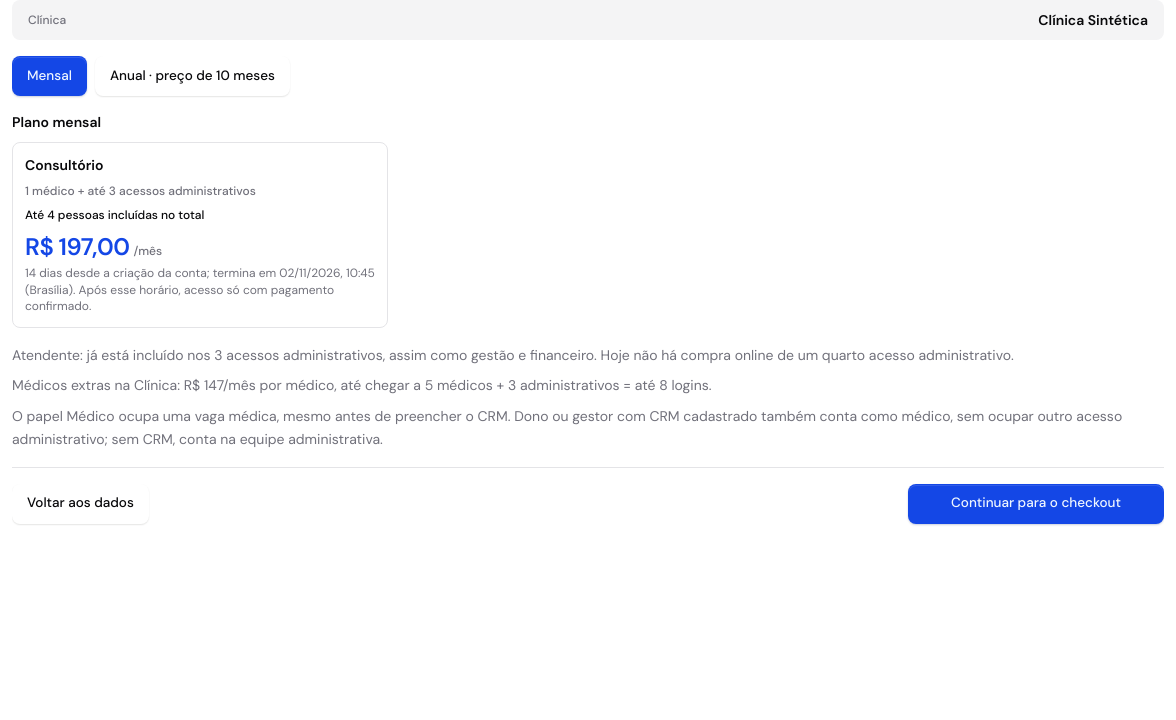
Scenario: seleção de plano O-4 › mostra preço anual e envia plano mais ciclo sem aceitar preço do browser
The width and height of the screenshot is (1176, 720).
Check: the text "R$ 197,00" is shown, box [25,231,130,263]
Click the button "Anual · preço de 10 meses".
click(192, 76)  # box [95,56,290,96]
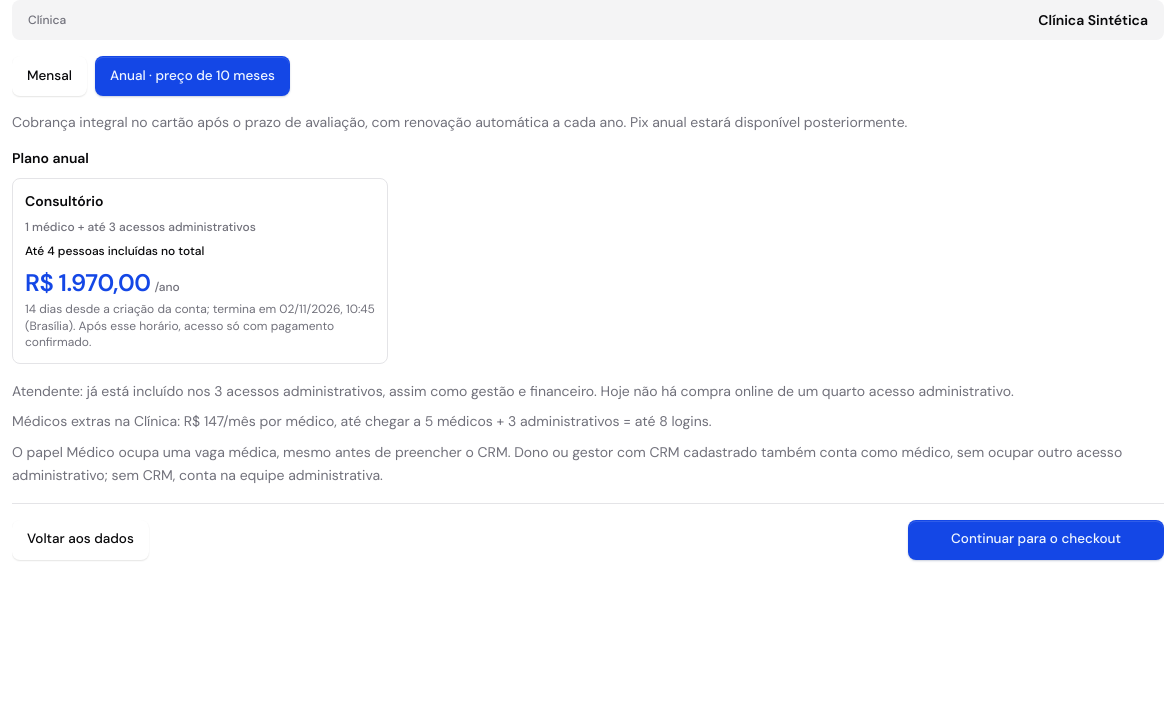
Check: the text "R$ 1.970,00" is shown, box [25,267,151,299]
Check: the text "R$ 197,00" is gone
Click the radio button labelled "Consultório".
click(64, 201)  # box [12,178,388,364]
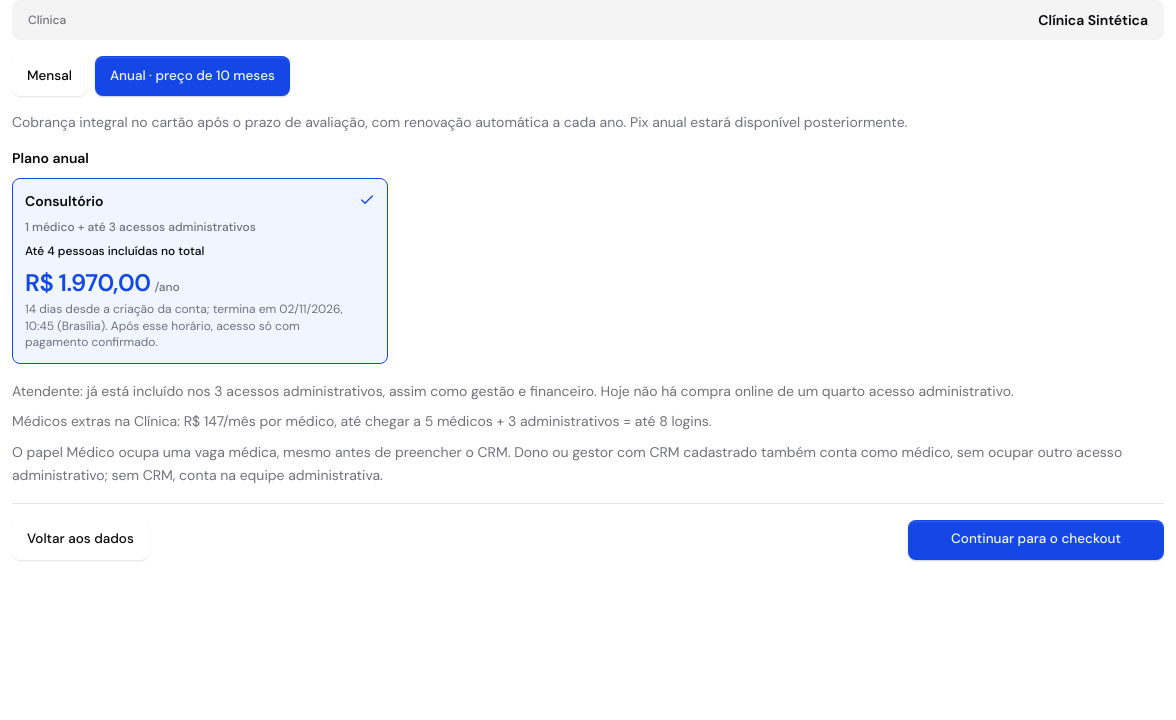
Click the button "Continuar para o checkout".
click(1036, 540)  # box [908,520,1164,560]
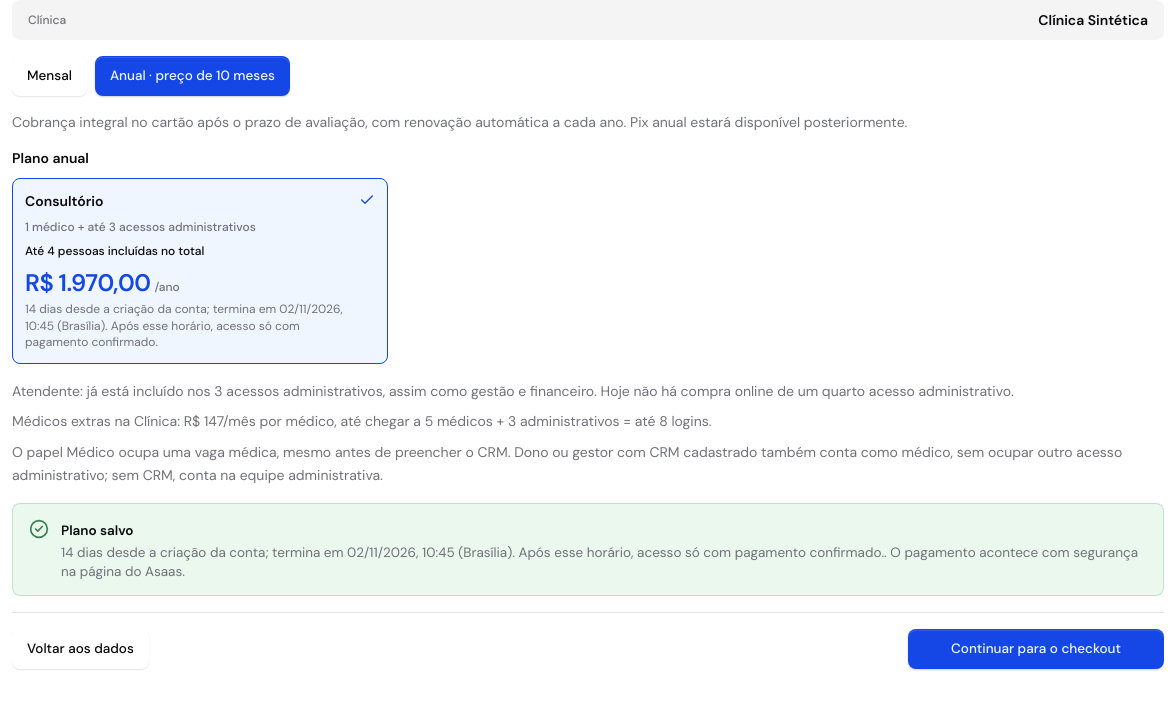
Check: the text "Plano salvo" is shown, box [61,522,134,538]
